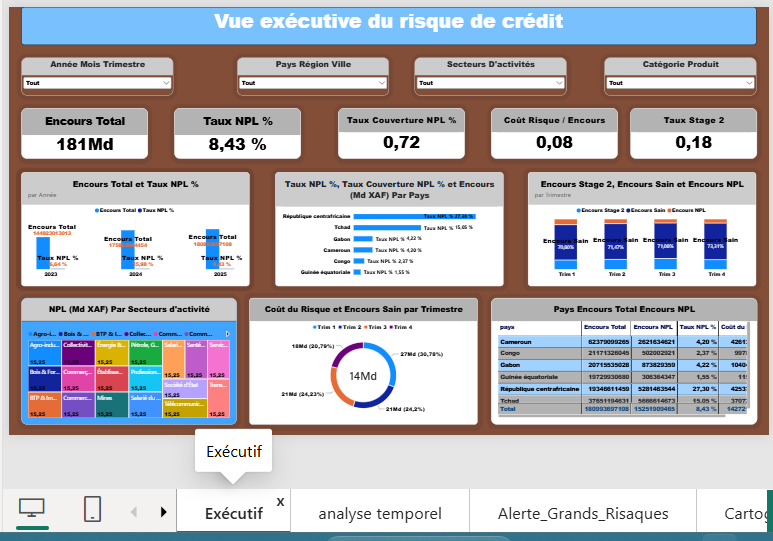

This screenshot's page, from the dashboard's own definition file:
{"tool":"powerbi","page":{"name":"Exécutif ","canvas":[1920,1080],"ordinal":0},"visuals":[{"type":"textbox","box":[32,0,1856,96],"z":0},{"type":"slicer","title":"Année Mois Trimestre","fields":{"Values":["public dim_date.date_complet.Variation.Hiérarchie de dates.Année","public dim_date.date_complet.Variation.Hiérarchie de dates.Trimestre","public dim_date.date_complet.Variation.Hiérarchie de dates.Mois"]},"box":[32,128,384,96],"z":1000},{"type":"slicer","title":"Pays Région Ville ","fields":{"Values":["public dim_agences.pays Hiérarchie.pays","public dim_agences.pays Hiérarchie.region","public dim_agences.pays Hiérarchie.ville"]},"box":[576,128,384,96],"z":2000},{"type":"slicer","title":"Catégorie Produit ","fields":{"Values":["public dim_produits.categorie_produit"]},"box":[1504,128,384,96],"z":3000},{"type":"card","title":"Encours Total ","fields":{"Values":["Mesures.Encours Total"]},"box":[32,256,320,128],"z":4000},{"type":"card","title":"Taux NPL %","fields":{"Values":["Etat_Porte_feuille.Taux NPL %"]},"box":[416,256,320,128],"z":5000},{"type":"card","title":"Taux Couverture NPL %","fields":{"Values":["Etat_Porte_feuille.Taux Couverture NPL %"]},"box":[832,256,320,128],"z":6000},{"type":"card","title":"Coût Risque / Encours","fields":{"Values":["Risque.Coût du Risque / Encours %"]},"box":[1216,256,320,128],"z":7000},{"type":"card","title":"Taux Stage 2","fields":{"Values":["Etat_Porte_feuille.Taux Stage 2 %"]},"box":[1568,256,320,128],"z":8000},{"type":"clusteredColumnChart","fields":{"Category":["public dim_date.date_complet.Variation.Hiérarchie de dates.Année"],"Y":["Mesures.Encours Total","Etat_Porte_feuille.Taux NPL %"]},"box":[32,416,576,288],"z":9000},{"type":"hundredPercentStackedColumnChart","fields":{"Category":["public dim_date.date_complet.Variation.Hiérarchie de dates.Trimestre"],"Y":["Mesures.Encours Stage 2","Mesures.Encours Sain","Mesures.Encours NPL"]},"box":[1312,416,576,288],"z":10000},{"type":"barChart","title":"Taux NPL %, Taux Couverture NPL % et Encours (Md XAF) Par  Pays","fields":{"Category":["public dim_agences.pays"],"Y":["Etat_Porte_feuille.Taux NPL %"]},"box":[672,416,576,288],"z":11000},{"type":"treemap","title":"NPL (Md XAF) Par Secteurs d''activité ","fields":{"Group":["public dim_clients.secteur_activite"],"Values":["Etat_Porte_feuille.NPL (Md XAF)"]},"box":[32,736,544,320],"z":12000},{"type":"donutChart","fields":{"Category":["public dim_date.date_complet.Variation.Hiérarchie de dates.Trimestre"],"Y":["Risque.Coût du Risque"]},"box":[608,736,576,320],"z":13000},{"type":"slicer","title":"Secteurs D''activités ","fields":{"Values":["public dim_clients.secteur_activite"]},"box":[1024,128,384,96],"z":14000},{"type":"tableEx","title":"Pays Encours Total Encours NPL","fields":{"Values":["public dim_agences.pays","Mesures.Encours Total","Mesures.Encours NPL","Etat_Porte_feuille.Taux NPL %","Risque.Coût du Risque"]},"box":[1216,736,672,320],"z":15000}]}

Visuals, with their boxes on the page's 1920x1080 design canvas (x1, y1, x2, y2). These are canvas units, not pixel positions in the 773x541 screenshot, which may show the page scaled, cropped or inside an application window:
textbox: 32 0 1888 96
"Année Mois Trimestre" slicer: 32 128 416 224
"Pays Région Ville " slicer: 576 128 960 224
"Catégorie Produit " slicer: 1504 128 1888 224
"Encours Total " card: 32 256 352 384
"Taux NPL %" card: 416 256 736 384
"Taux Couverture NPL %" card: 832 256 1152 384
"Coût Risque / Encours" card: 1216 256 1536 384
"Taux Stage 2" card: 1568 256 1888 384
clusteredColumnChart - public dim_date.date_complet.Variation.Hiérarchie de dates.Année x Mesures.Encours Total: 32 416 608 704
hundredPercentStackedColumnChart - public dim_date.date_complet.Variation.Hiérarchie de dates.Trimestre x Mesures.Encours Stage 2: 1312 416 1888 704
"Taux NPL %, Taux Couverture NPL % et Encours (Md XAF) Par  Pays" barChart: 672 416 1248 704
"NPL (Md XAF) Par Secteurs d''activité " treemap: 32 736 576 1056
donutChart - public dim_date.date_complet.Variation.Hiérarchie de dates.Trimestre x Risque.Coût du Risque: 608 736 1184 1056
"Secteurs D''activités " slicer: 1024 128 1408 224
"Pays Encours Total Encours NPL" tableEx: 1216 736 1888 1056
